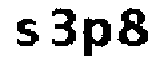3: (46, 6, 77, 51)
8: (119, 4, 150, 50)
p: (81, 15, 110, 60)
s: (12, 16, 39, 49)
